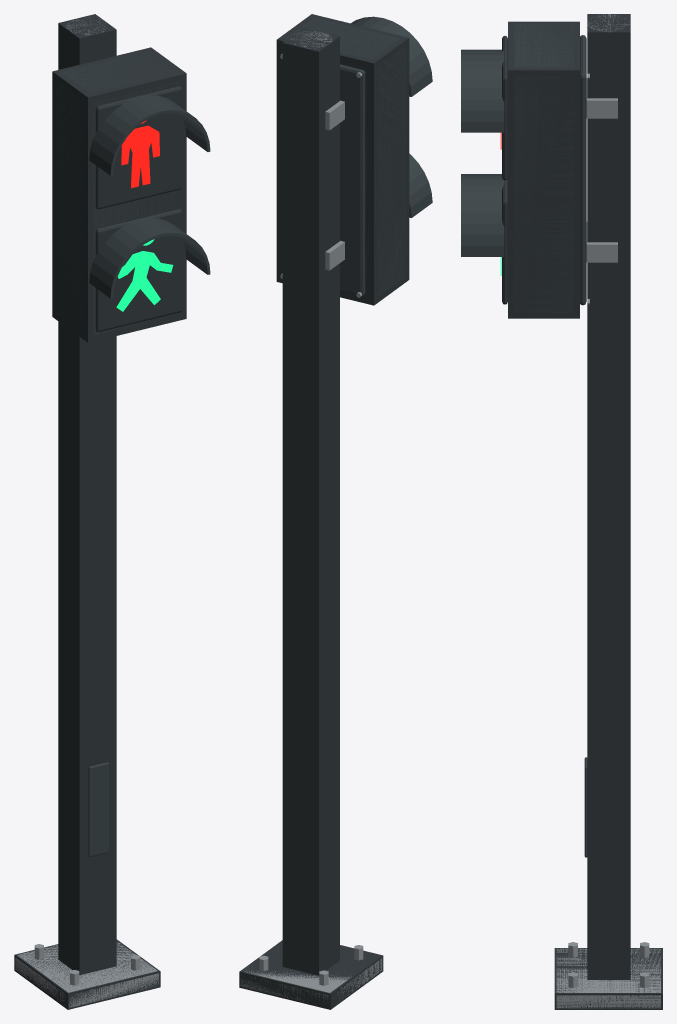
Rendered from SIMUS_TrafficSignal_Pedestrian.fbx.
3 renders of one model, left to right at view 1: azimuth 30°, elevation 25°; view 2: azimuth 150°, elevation 25°; view 3: azimuth 270°, elevation 25°, orthographic. The views are drawn at different scales.
Visible parts, largest first — view 1: COL_PEDESTRIAN_POLE, COL_PEDESTRIAN_HEAD, PEDESTRIAN_SIGNAL_HEAD, PEDESTRIAN_SIGNAL_VISORS, PEDESTRIAN_LENS_GREEN, PEDESTRIAN_LENS_RED, PEDESTRIAN_SIGNAL_BASE, COL_PEDESTRIAN_BASE, PEDESTRIAN_POLE_HATCH, PEDESTRIAN_EMITTER_RED, PEDESTRIAN_EMITTER_GREEN; view 2: COL_PEDESTRIAN_POLE, COL_PEDESTRIAN_HEAD, PEDESTRIAN_SIGNAL_HEAD, PEDESTRIAN_SIGNAL_BACK_COVER, COL_PEDESTRIAN_BASE, PEDESTRIAN_SIGNAL_VISORS, PEDESTRIAN_SIGNAL_BASE, PEDESTRIAN_SIGNAL_BRACKETS; view 3: COL_PEDESTRIAN_POLE, COL_PEDESTRIAN_HEAD, PEDESTRIAN_SIGNAL_HEAD, PEDESTRIAN_SIGNAL_VISORS, PEDESTRIAN_SIGNAL_BASE, COL_PEDESTRIAN_BASE, PEDESTRIAN_SIGNAL_BACK_COVER, PEDESTRIAN_SIGNAL_BRACKETS, PEDESTRIAN_LENS_RED, PEDESTRIAN_LENS_GREEN, PEDESTRIAN_ANCHOR_BOLTS.
Boxes of the visible parts, bbox=[...] form: COL_PEDESTRIAN_POLE: bbox=[58, 14, 116, 975]; COL_PEDESTRIAN_HEAD: bbox=[52, 47, 186, 342]; PEDESTRIAN_SIGNAL_HEAD: bbox=[55, 51, 181, 335]; PEDESTRIAN_SIGNAL_VISORS: bbox=[89, 94, 210, 298]; PEDESTRIAN_LENS_GREEN: bbox=[95, 209, 181, 331]; PEDESTRIAN_LENS_RED: bbox=[95, 86, 181, 209]; PEDESTRIAN_SIGNAL_BASE: bbox=[15, 942, 158, 1007]; COL_PEDESTRIAN_BASE: bbox=[14, 939, 160, 1009]; PEDESTRIAN_POLE_HATCH: bbox=[88, 762, 108, 856]; PEDESTRIAN_EMITTER_RED: bbox=[121, 120, 159, 188]; PEDESTRIAN_EMITTER_GREEN: bbox=[116, 239, 173, 311]; COL_PEDESTRIAN_POLE: bbox=[282, 27, 339, 975]; COL_PEDESTRIAN_HEAD: bbox=[276, 14, 409, 305]; PEDESTRIAN_SIGNAL_HEAD: bbox=[282, 17, 405, 297]; PEDESTRIAN_SIGNAL_BACK_COVER: bbox=[340, 64, 365, 295]; COL_PEDESTRIAN_BASE: bbox=[239, 940, 383, 1009]; PEDESTRIAN_SIGNAL_VISORS: bbox=[351, 16, 432, 217]; PEDESTRIAN_SIGNAL_BASE: bbox=[240, 958, 382, 1002]; PEDESTRIAN_SIGNAL_BRACKETS: bbox=[325, 100, 344, 270]; COL_PEDESTRIAN_POLE: bbox=[587, 14, 630, 979]; COL_PEDESTRIAN_HEAD: bbox=[508, 21, 579, 318]; PEDESTRIAN_SIGNAL_HEAD: bbox=[514, 24, 573, 312]; PEDESTRIAN_SIGNAL_VISORS: bbox=[461, 49, 504, 256]; PEDESTRIAN_SIGNAL_BASE: bbox=[556, 948, 660, 1008]; COL_PEDESTRIAN_BASE: bbox=[554, 948, 662, 1009]; PEDESTRIAN_SIGNAL_BACK_COVER: bbox=[580, 35, 586, 305]; PEDESTRIAN_SIGNAL_BRACKETS: bbox=[586, 78, 617, 262]; PEDESTRIAN_LENS_RED: bbox=[502, 36, 507, 180]; PEDESTRIAN_LENS_GREEN: bbox=[502, 178, 507, 304]; PEDESTRIAN_ANCHOR_BOLTS: bbox=[568, 942, 649, 987].
Size of the model in its own units: 32.4 by 295 by 56.
